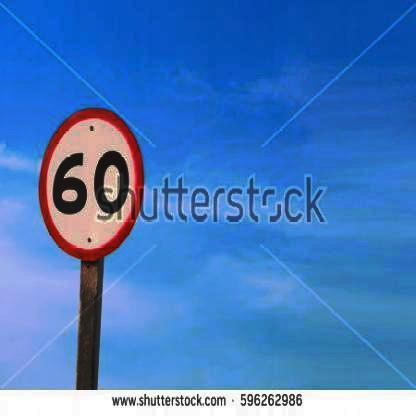Speed Limit -60-: (39, 107, 142, 257)
